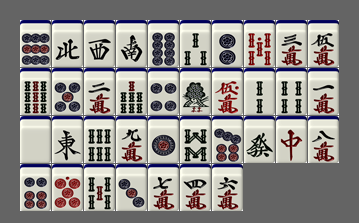0m: (212, 68, 243, 115)
0p: (52, 164, 83, 211)
0s: (244, 20, 275, 67)
1m: (308, 68, 339, 115)
1p: (148, 116, 179, 163)
1s: (180, 68, 211, 115)
1z: (52, 116, 83, 163)
2m: (84, 68, 115, 115)
2p: (212, 20, 243, 67)
2s: (244, 68, 275, 115)
2z: (116, 20, 147, 67)
3m: (276, 20, 307, 67)
3p: (116, 164, 147, 211)
3s: (180, 20, 211, 67)
3z: (84, 20, 115, 67)
4m: (180, 164, 211, 211)
4p: (148, 68, 179, 115)
4s: (276, 68, 307, 115)
4z: (52, 20, 83, 67)
5m: (308, 20, 339, 67)
5p: (52, 68, 83, 115)
5s: (84, 164, 115, 211)
5z: (20, 116, 51, 163)
6m: (212, 164, 243, 211)
6p: (20, 164, 51, 211)
6s: (84, 116, 115, 163)
6z: (244, 116, 275, 163)
7m: (148, 164, 179, 211)
7p: (212, 116, 243, 163)
7s: (116, 68, 147, 115)
7z: (276, 116, 307, 163)
8m: (308, 116, 339, 163)
8p: (148, 20, 179, 67)
8s: (180, 116, 211, 163)
9m: (116, 116, 147, 163)
9p: (20, 20, 51, 67)
9s: (20, 68, 51, 115)
